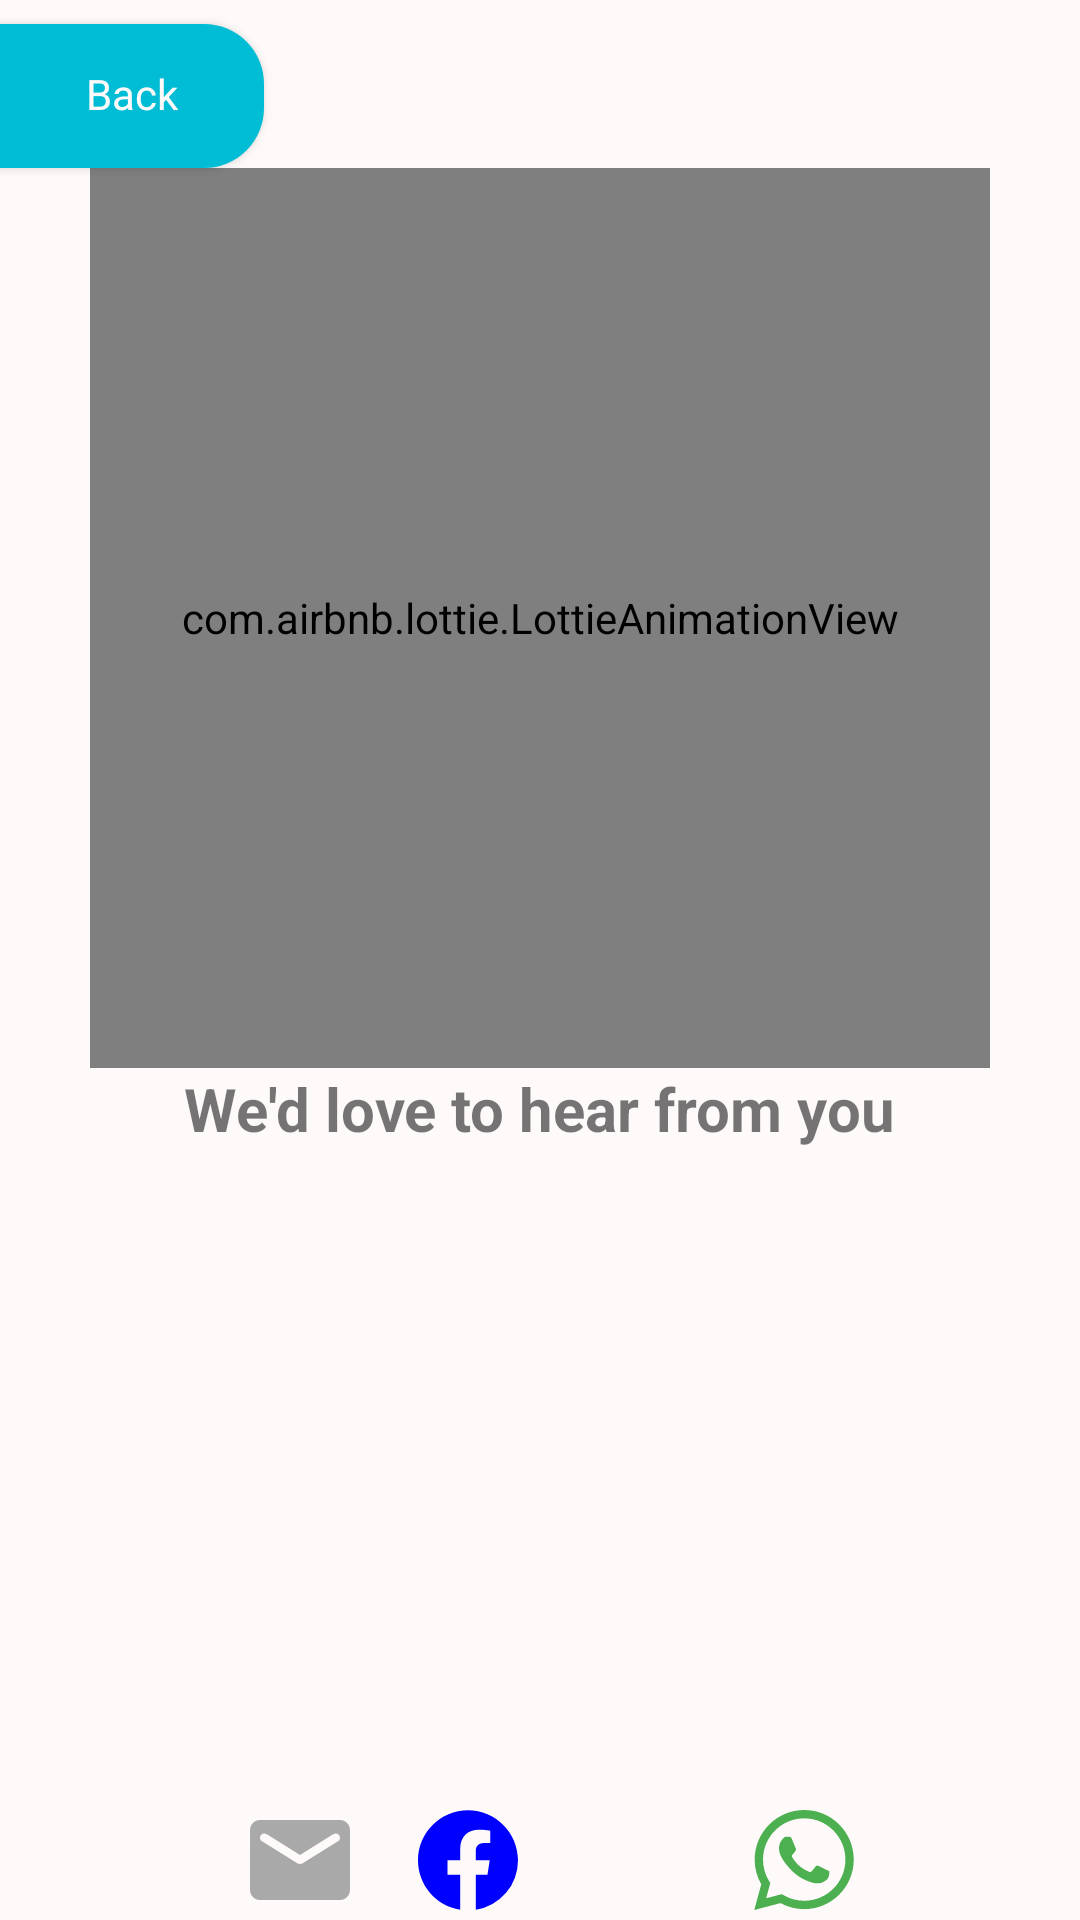

Where icons sit on this 1080x1920 app screen, as bbox=[x1, y1, x2, y2]:
email: bbox=[250, 1820, 350, 1900]
